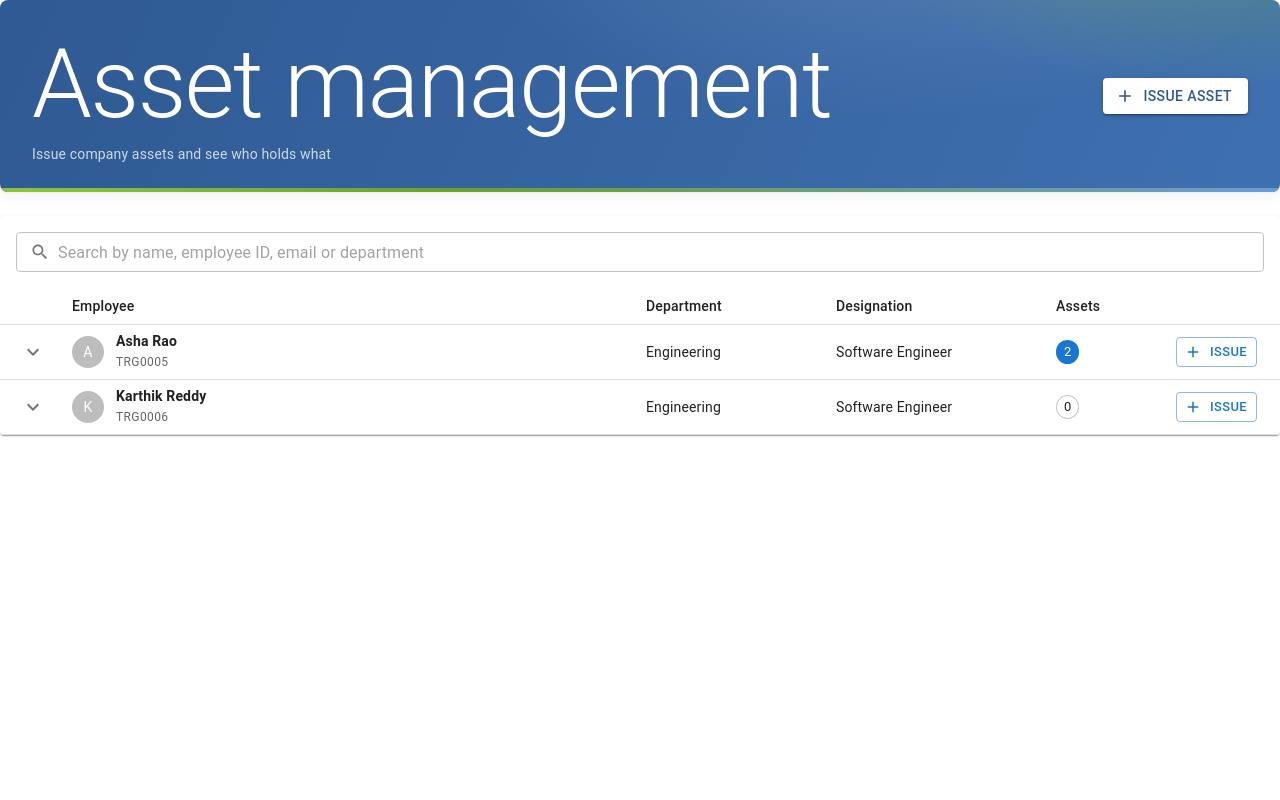
Test case: AssetManagementPage › asks who to issue to when issuing from the top
Step 1. Click the button "Issue asset" → (1176, 96), box [1103,78,1248,114]
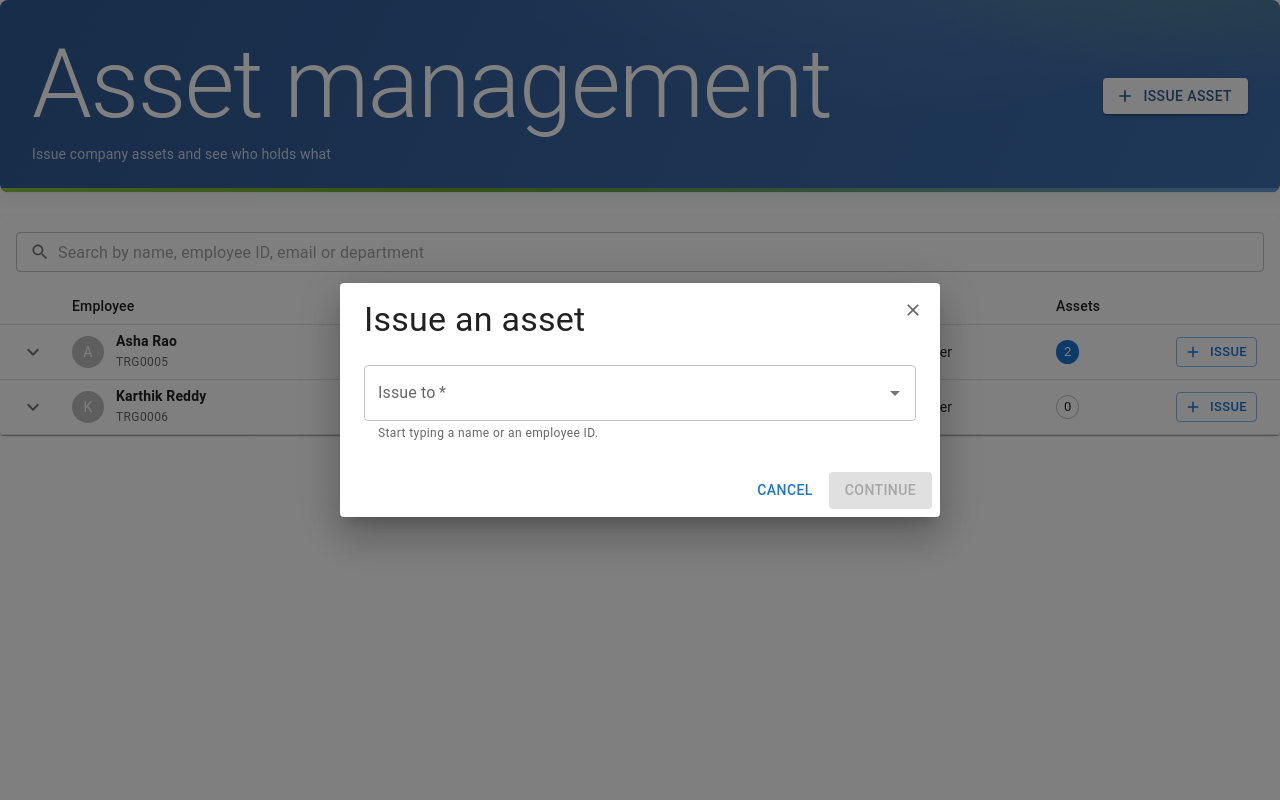
Check: the dropdown labelled "Issue to *" is shown, box [373,374,877,412]
Check: the button "Continue" is disabled, box [829,472,932,509]
